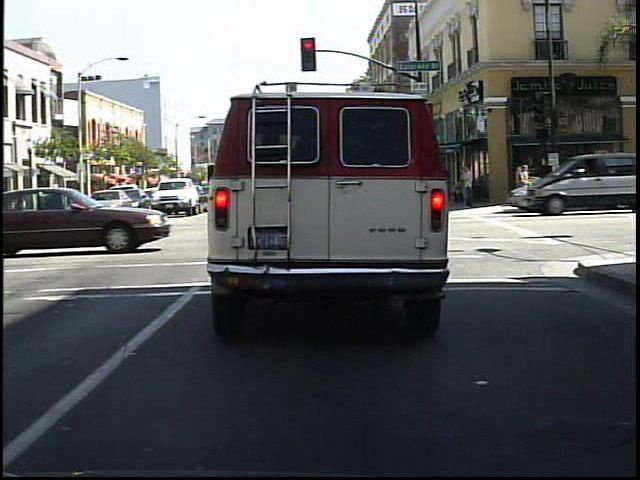person: (537, 155, 559, 210), (511, 163, 531, 207)
